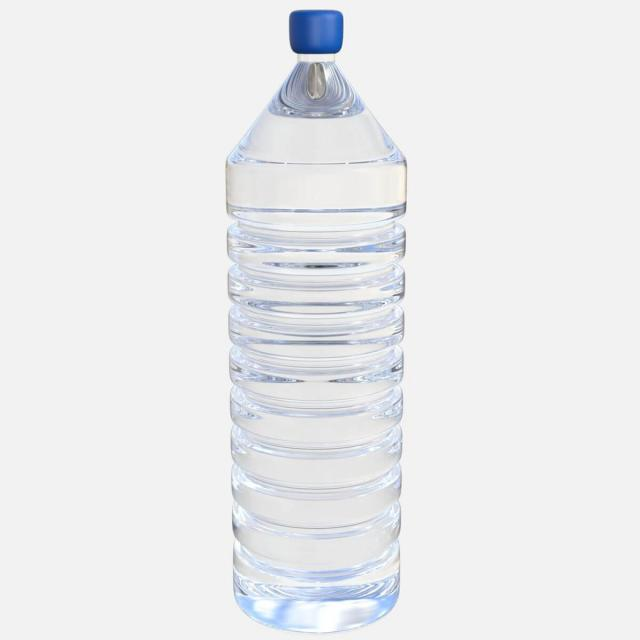bottle: (193, 0, 428, 614)
